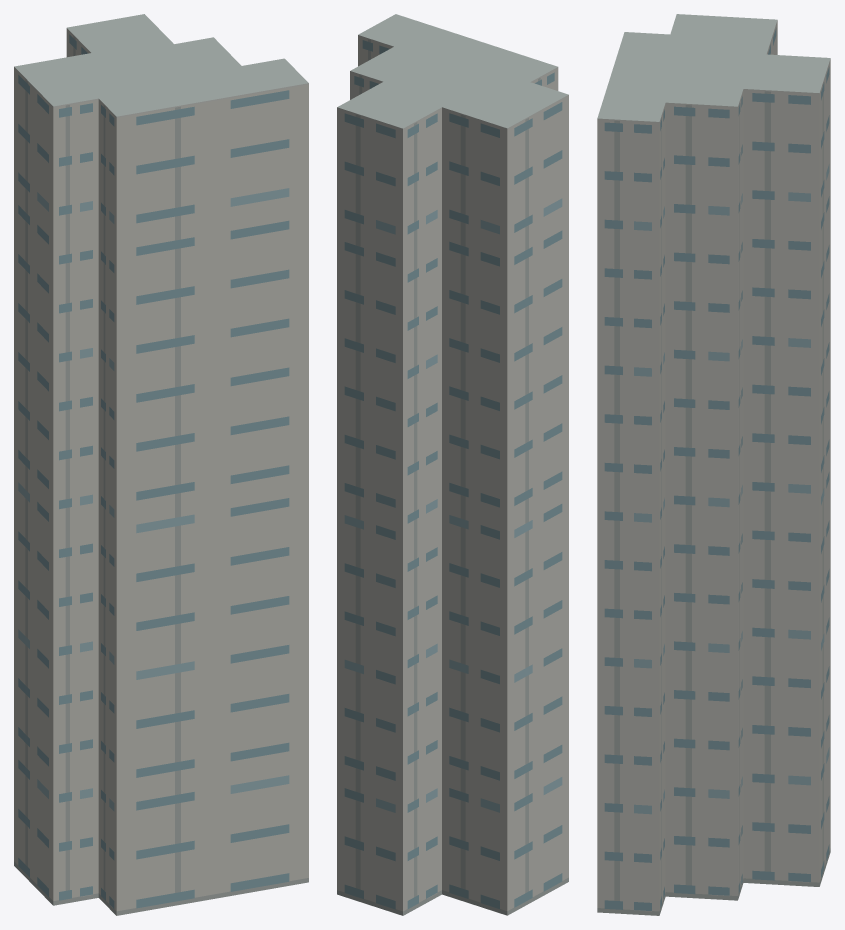
File: residential-511941cf-6561-4027-9f34-694a2622bc3b.glb
3 views of the same model, side by side, from view 1: azimuth 30°, elevation 25°; view 2: azimuth 150°, elevation 25°; view 3: azimuth 270°, elevation 25° (orthographic).
Visible parts, largest first — view 1: residential-511941cf-6561-4027-9f34-694a2622bc3b.tmp; view 2: residential-511941cf-6561-4027-9f34-694a2622bc3b.tmp; view 3: residential-511941cf-6561-4027-9f34-694a2622bc3b.tmp.
Boxes of the visible parts, x1,y1,x2,y2 form: residential-511941cf-6561-4027-9f34-694a2622bc3b.tmp: (14, 14, 308, 915); residential-511941cf-6561-4027-9f34-694a2622bc3b.tmp: (337, 14, 568, 915); residential-511941cf-6561-4027-9f34-694a2622bc3b.tmp: (597, 14, 830, 915).
Size of the model in its own units: 48.44 by 166 by 44.23.
